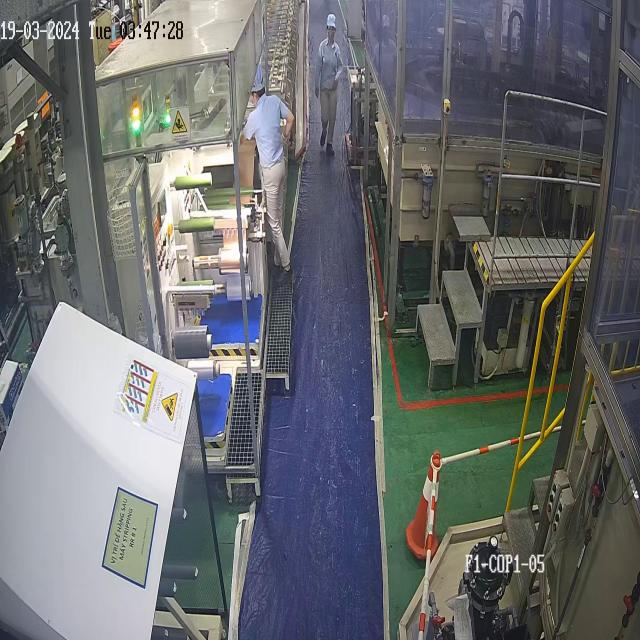Person: (239, 64, 295, 279), (314, 13, 343, 156)
